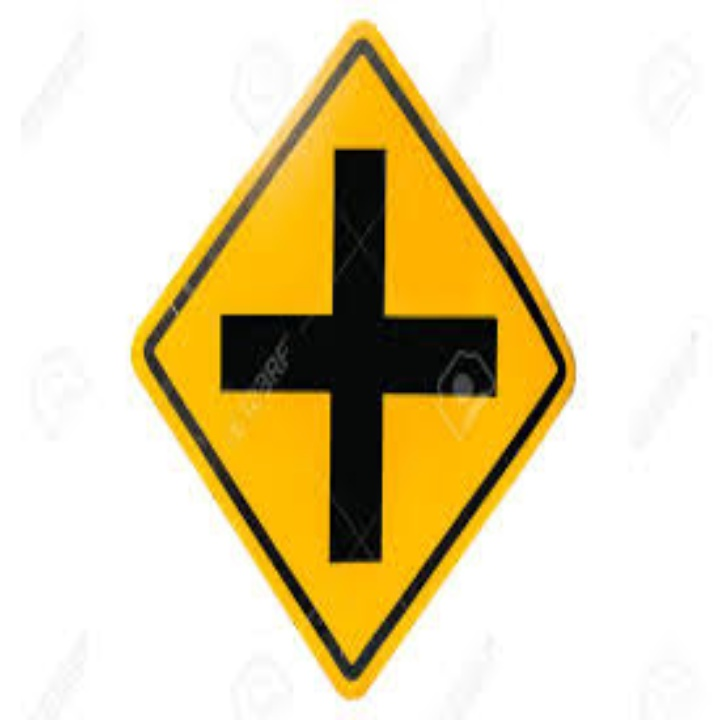inter: (202, 137, 506, 570)
